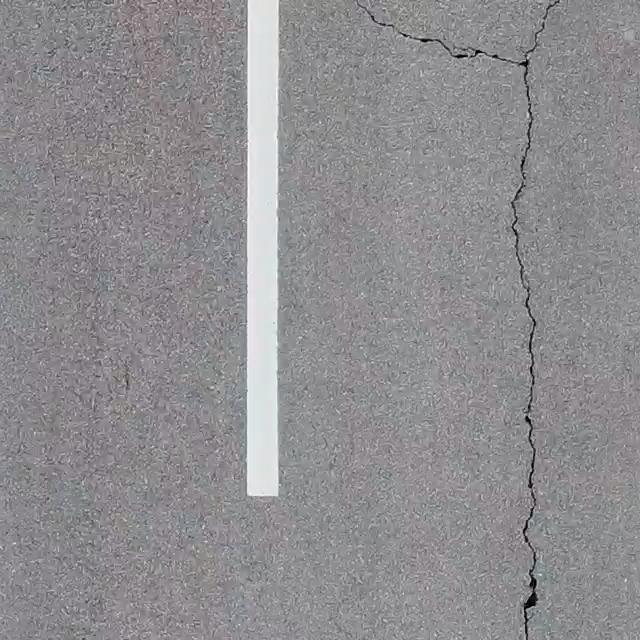GRIETA: (510, 0, 560, 639), (356, 0, 519, 66)
